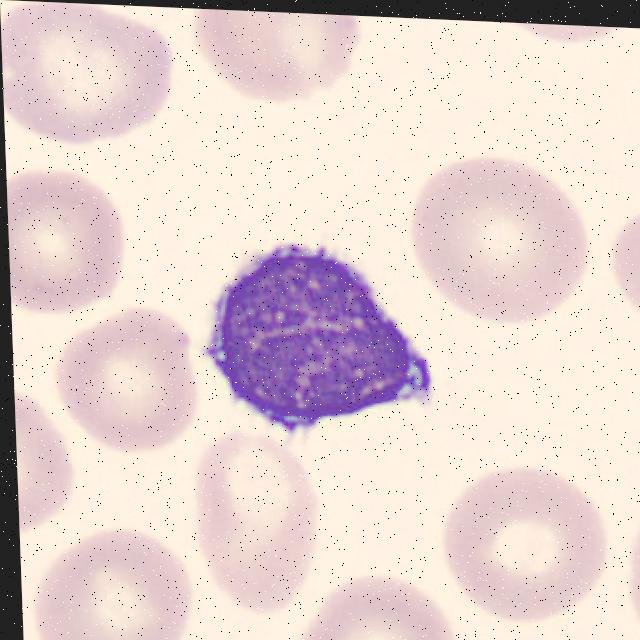lymphocyte: (201, 230, 455, 438)
rbc: (415, 159, 602, 322), (449, 464, 614, 630), (0, 4, 169, 133), (57, 308, 202, 449), (196, 430, 307, 613), (6, 164, 130, 313), (189, 9, 365, 108), (33, 536, 196, 640), (292, 577, 461, 640), (14, 380, 74, 523), (607, 210, 640, 330), (492, 22, 633, 41), (627, 515, 640, 639)
